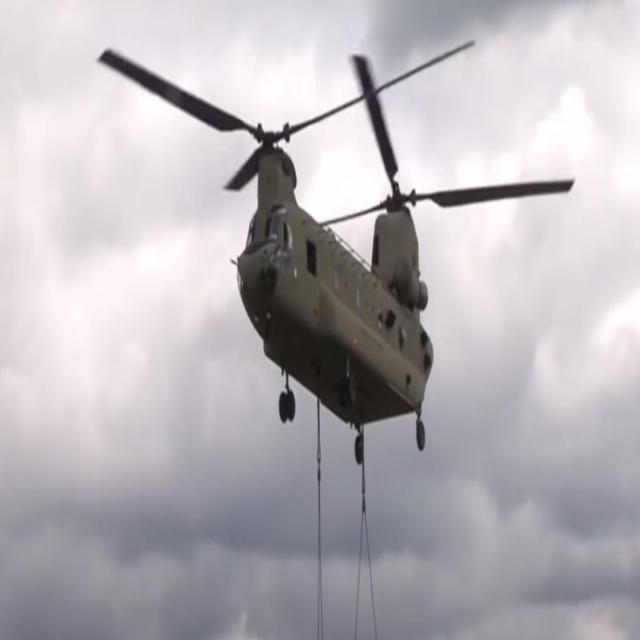Helicopter: (162, 72, 454, 470)
